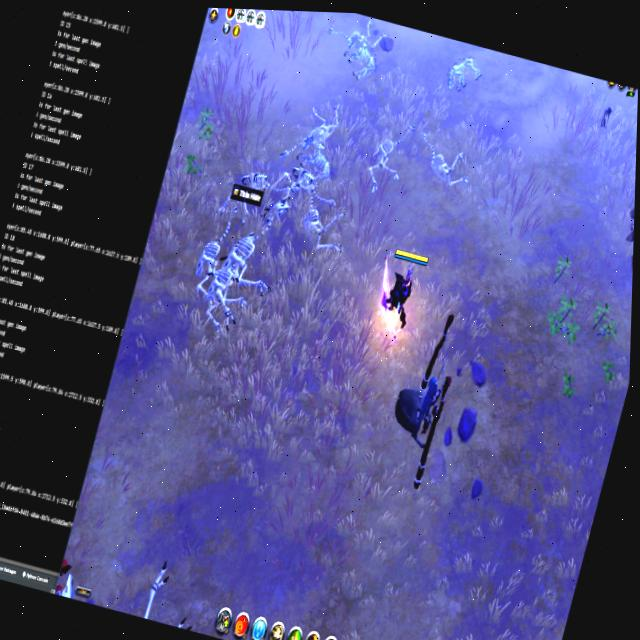red: (368, 240, 434, 342)
